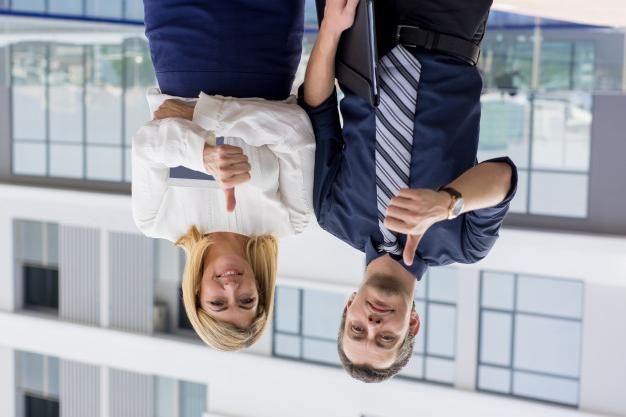thumbsdown: (383, 189, 426, 266), (215, 145, 252, 213)
